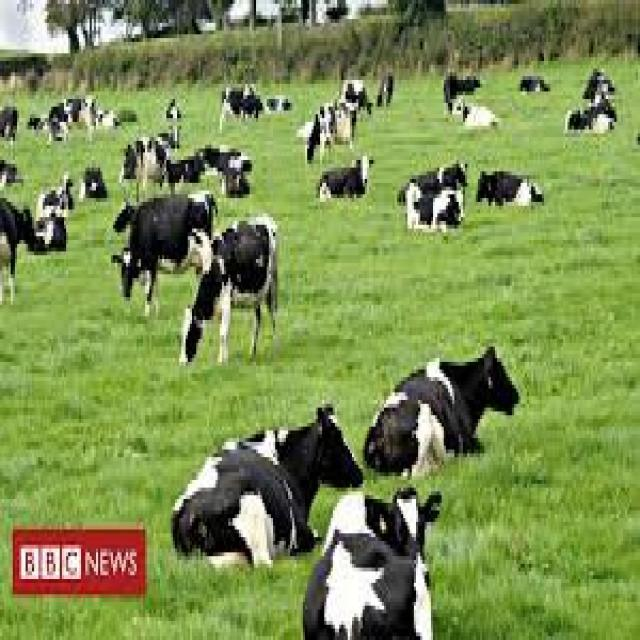cow: (171, 404, 361, 564), (303, 488, 439, 636), (363, 347, 518, 472), (179, 217, 275, 362), (111, 190, 213, 309), (316, 156, 371, 198)
